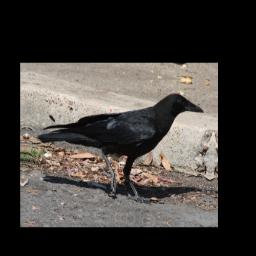Crow: (33, 76, 206, 208)
